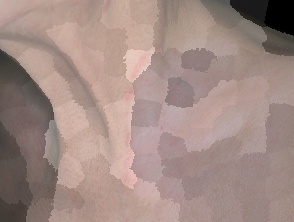vitiligo: (114, 31, 216, 210)
